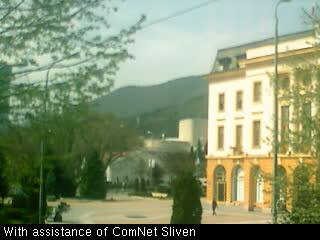person: (211, 198, 217, 215)
